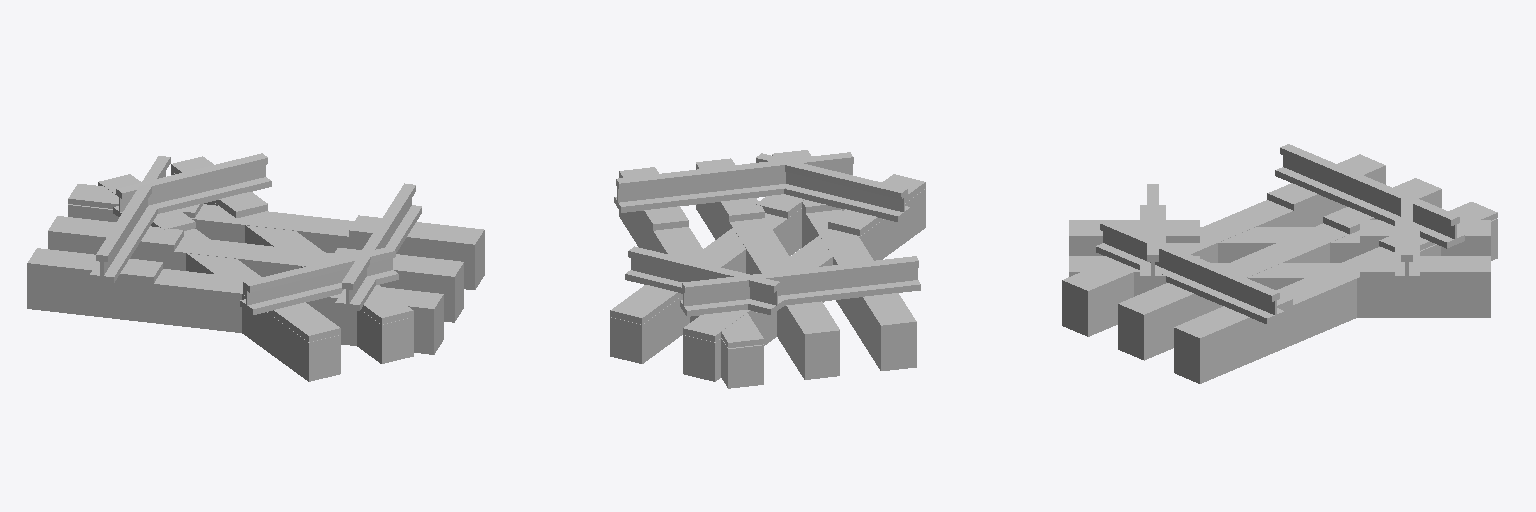
Rendered from cross_d2_xo.obj.
3 views of the same model, side by side, from view 1: azimuth 30°, elevation 25°; view 2: azimuth 150°, elevation 25°; view 3: azimuth 270°, elevation 25° (orthographic).
Parts seen in each view (by area): view 1: cube; view 2: cube; view 3: cube.
Part boxes in pixels (x1,y1,x2,y2): cube: (27,153,484,381); cube: (610,150,925,388); cube: (1062,144,1497,383).
Bounding box in the file's own units: 2.59 × 0.474 × 2.59.